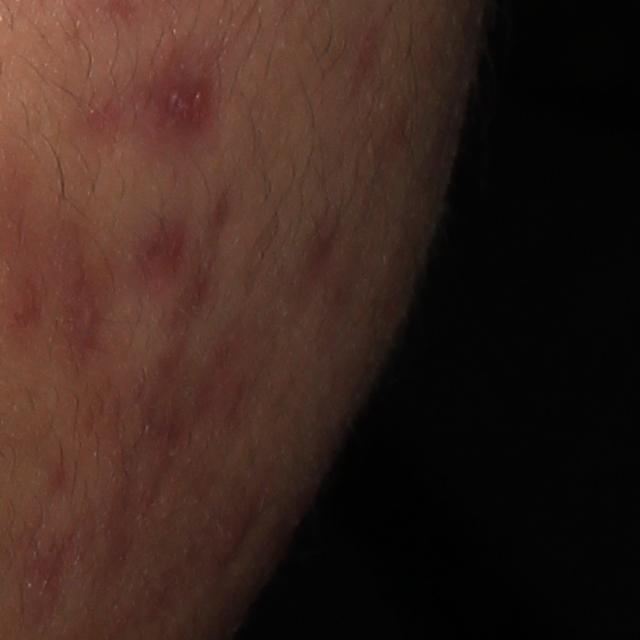papule: (205, 495, 260, 568)
